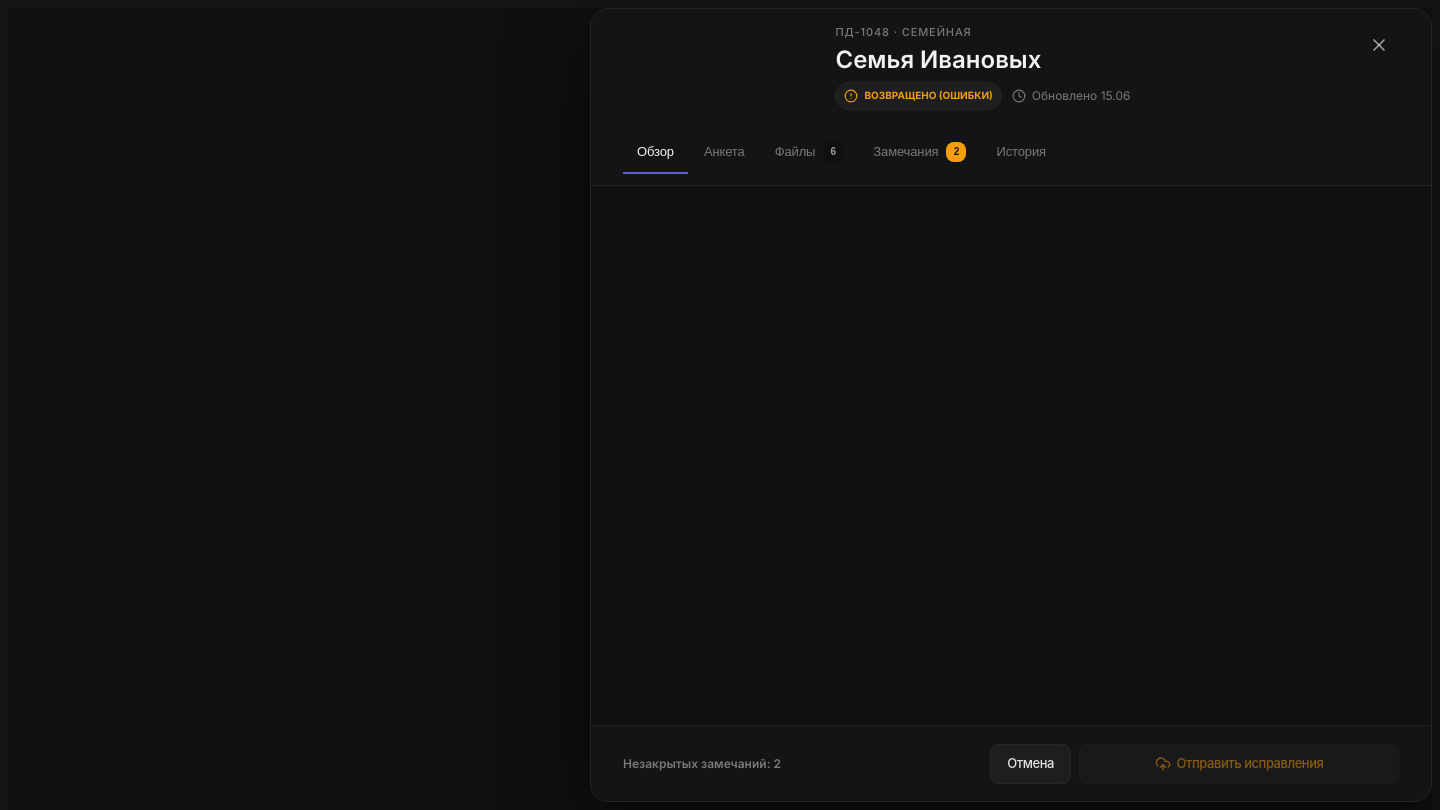
Test: async UI callers › operational drawer never presents fixed-by-agent issues as actionable corrections
The width and height of the screenshot is (1440, 810).
Click the tab "Замечания 2". click: (920, 152)
box: 859,130 -> 980,174
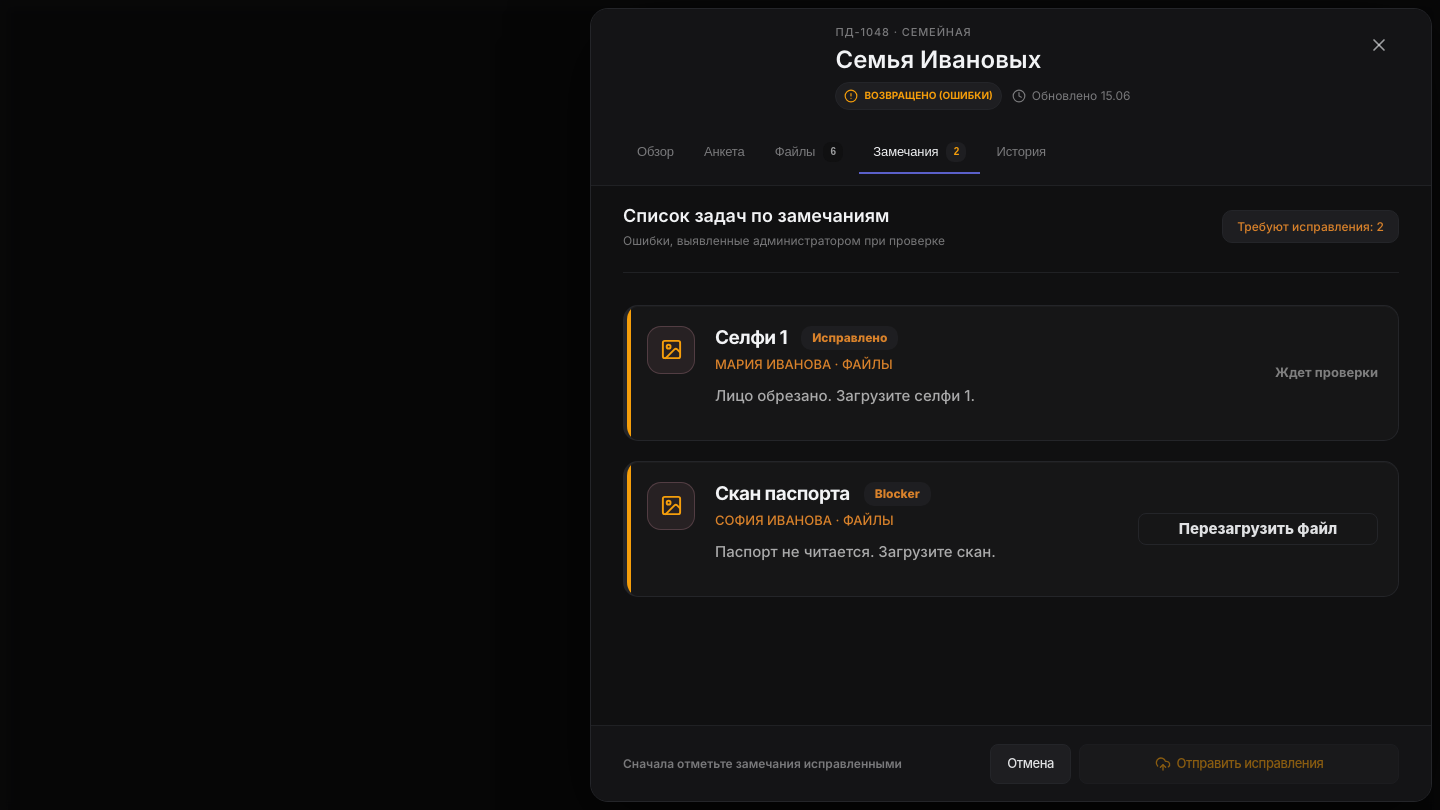
Check: the heading "Список задач по замечаниям" is shown, box 623,206 -> 890,227
Check: the text "Ждет проверки" is shown, box 1275,365 -> 1378,381
Check: the text "Blocker" is shown once, box 864,482 -> 931,506
